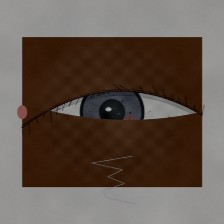foreign_body_visible: (106, 106, 152, 143)
